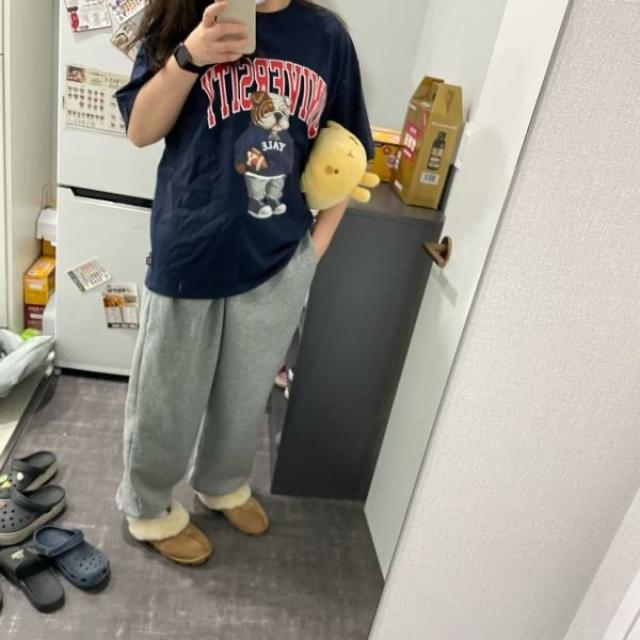shortsleeve: (121, 4, 378, 308)
trainingpants: (120, 228, 322, 532)
